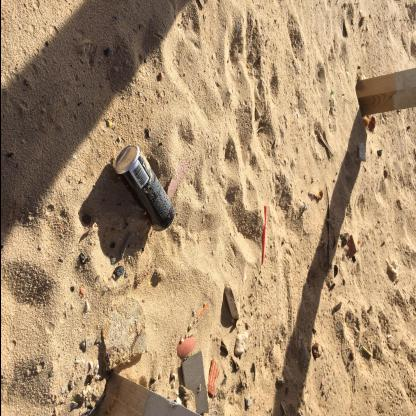metal: (113, 144, 174, 232)
